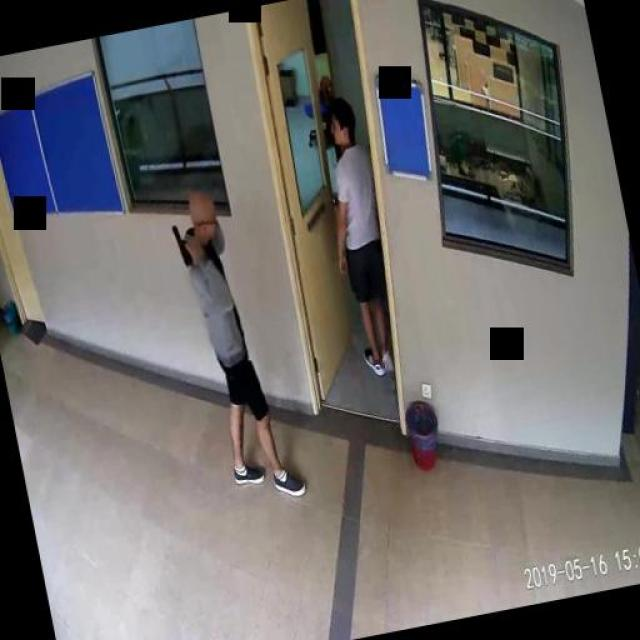gun: (170, 218, 200, 268)
